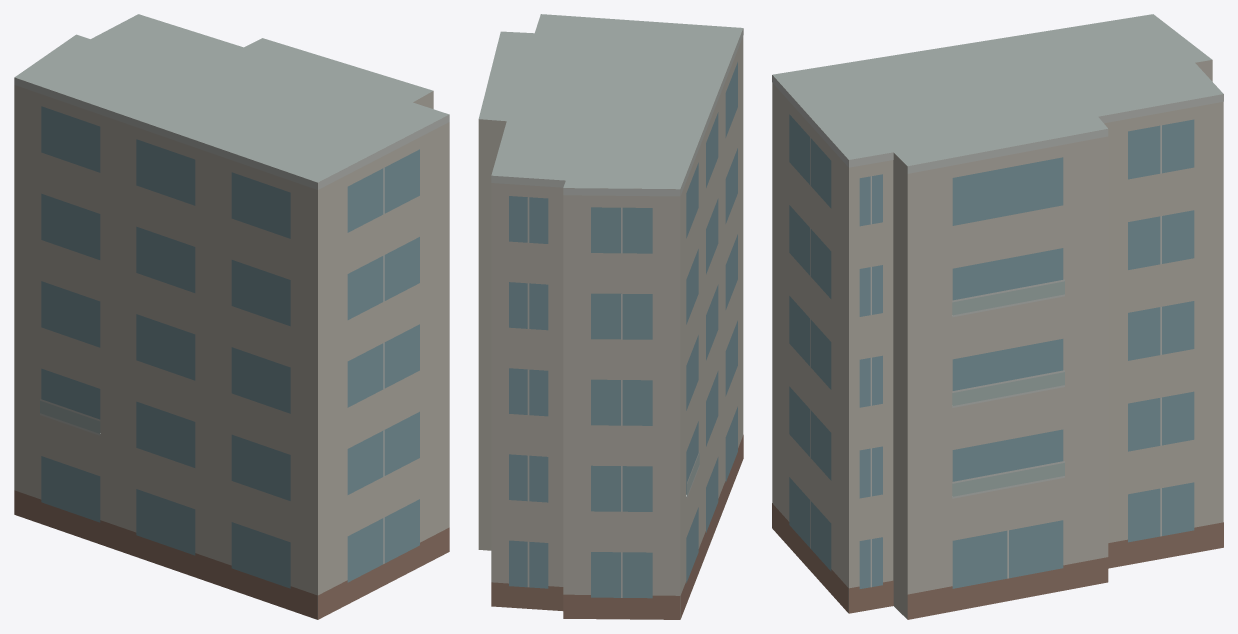
The model's file is survey-upis-32897950.glb.
3 views of the same model, side by side, from view 1: azimuth 30°, elevation 25°; view 2: azimuth 150°, elevation 25°; view 3: azimuth 270°, elevation 25° (orthographic). The views are drawn at different scales.
Parts seen in each view (by area): view 1: survey-upis-32897950.tmp; view 2: survey-upis-32897950.tmp; view 3: survey-upis-32897950.tmp.
Boxes of the visible parts, x1,y1,x2,y2 form: survey-upis-32897950.tmp: [14, 14, 449, 619]; survey-upis-32897950.tmp: [478, 14, 743, 619]; survey-upis-32897950.tmp: [772, 14, 1223, 619].
Size of the model in its own units: 10.38 by 14.4 by 13.
